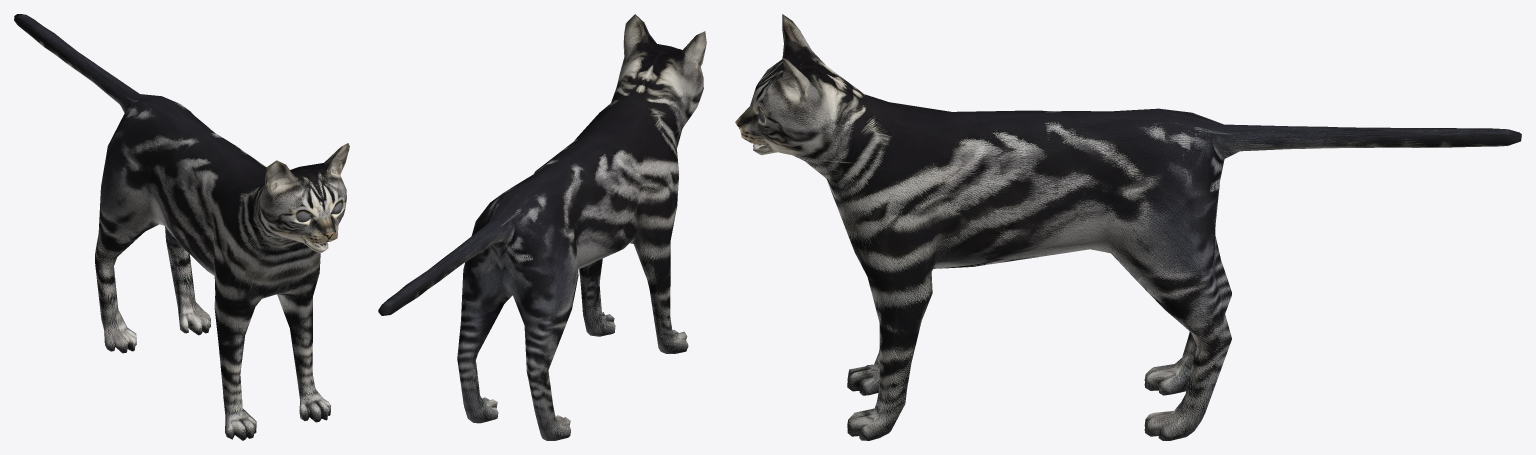
3 views of the same model, side by side, from view 1: azimuth 30°, elevation 25°; view 2: azimuth 150°, elevation 25°; view 3: azimuth 270°, elevation 25° (orthographic). The views are drawn at different scales.
Parts seen in each view (by area): view 1: Mesh_0; view 2: Mesh_0; view 3: Mesh_0.
Part boxes in pixels (bbox=[...]): Mesh_0: bbox=[14, 14, 349, 440]; Mesh_0: bbox=[378, 14, 706, 440]; Mesh_0: bbox=[735, 14, 1521, 440].
Bounding box in the file's own units: 39.05 × 105 × 200.
1 material, 1 textured.
